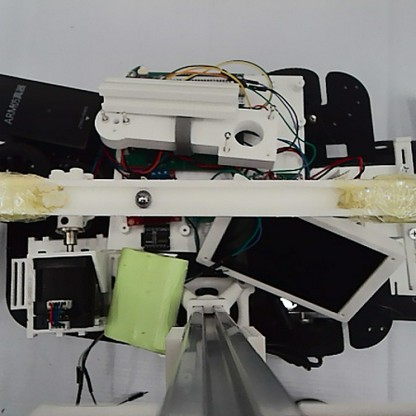ironball: (133, 188, 151, 208)
